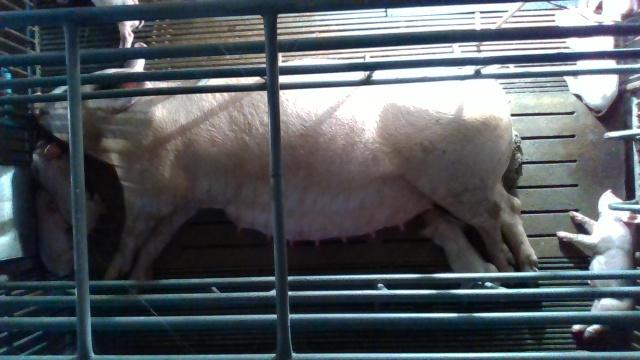piglet: (556, 189, 637, 340), (30, 139, 107, 234), (554, 8, 619, 116), (423, 207, 500, 288), (36, 189, 77, 275), (91, 0, 144, 48)
sow-sleep-lactate: (30, 43, 541, 295)
